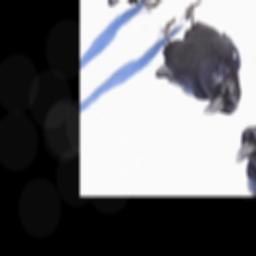Crow: (136, 0, 256, 144)
